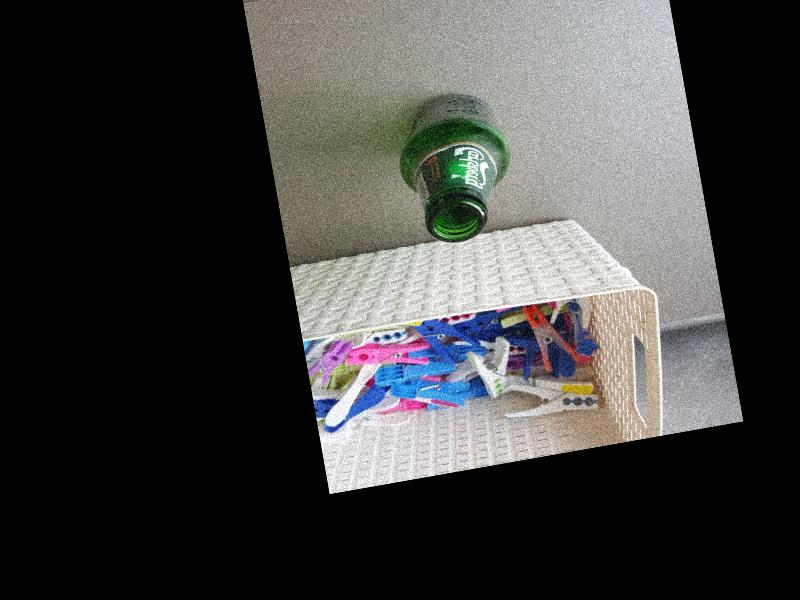Beer: (388, 84, 524, 248)
